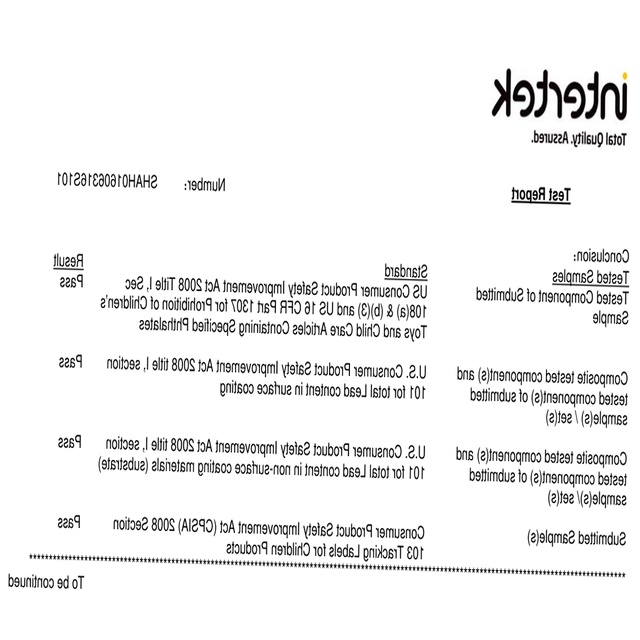intertek: (487, 65, 630, 124)
